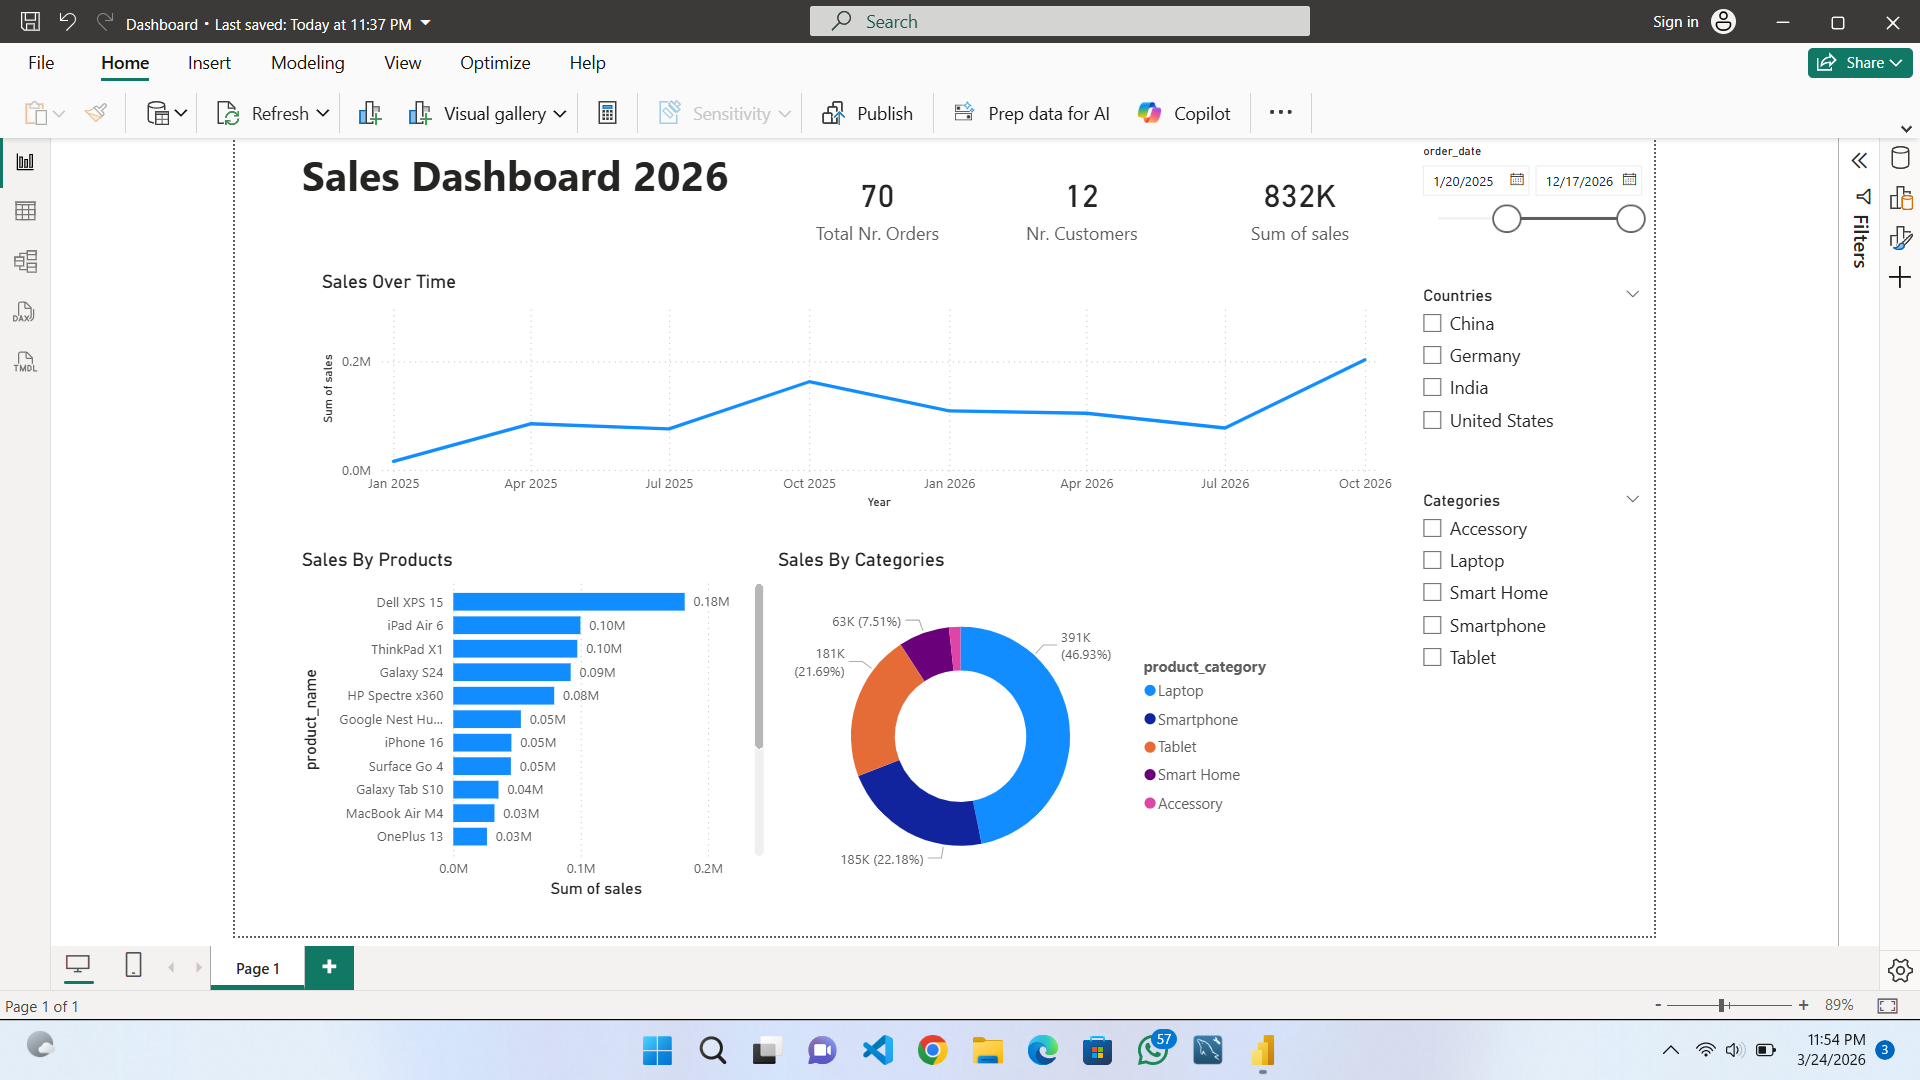

What the dashboard file says about the page in this screenshot:
{"tool":"powerbi","page":{"name":"Page 1","canvas":[1280,720],"ordinal":0},"visuals":[{"type":"barChart","title":"Sales By Products","fields":{"Category":["orders.product_name"],"Y":["Sum(orders.sales)"]},"box":[55.6,369.8,426.7,320.6],"z":0},{"type":"donutChart","title":"Sales By Categories","fields":{"Category":["orders.product_category"],"Y":["Sum(orders.sales)"]},"box":[484.8,369.8,465.5,320.6],"z":1000},{"type":"card","fields":{"Values":["CountNonNull(orders.order_id)"]},"box":[504.2,0,151.3,122.8],"z":2000},{"type":"card","fields":{"Values":["Count(orders.customer_id)"]},"box":[680.1,0,168.1,122.8],"z":3000},{"type":"card","fields":{"Values":["Sum(orders.sales)"]},"box":[862.4,0,196.5,122.8],"z":4000},{"type":"lineChart","title":"Sales Over Time","fields":{"Category":["orders.order_date.Variation.Date Hierarchy.Year","orders.order_date.Variation.Date Hierarchy.Quarter","orders.order_date.Variation.Date Hierarchy.Month","orders.order_date.Variation.Date Hierarchy.Day"],"Y":["Sum(orders.sales)"]},"box":[73.7,118.9,974.9,219.8],"z":5000},{"type":"slicer","fields":{"Values":["customers.country"]},"box":[1058.9,128,221.1,153.9],"z":6000},{"type":"slicer","fields":{"Values":["orders.product_category"]},"box":[1058.9,312.9,221.1,196.5],"z":7000},{"type":"slicer","fields":{"Values":["orders.order_date"]},"box":[1058.9,0,221.1,128],"z":8000},{"type":"textbox","box":[55.6,3.9,426.7,75],"z":9000}]}

Visuals, with their boxes on the page's 1280x720 design canvas (x1, y1, x2, y2). These are canvas units, not pixel positions in the 1920x1080 screenshot, which may show the page scaled, cropped or inside an application window:
"Sales By Products" barChart: bbox=(56, 370, 482, 690)
"Sales By Categories" donutChart: bbox=(485, 370, 950, 690)
card - CountNonNull(orders.order_id): bbox=(504, 0, 656, 123)
card - Count(orders.customer_id): bbox=(680, 0, 848, 123)
card - Sum(orders.sales): bbox=(862, 0, 1059, 123)
"Sales Over Time" lineChart: bbox=(74, 119, 1049, 339)
slicer - customers.country: bbox=(1059, 128, 1280, 282)
slicer - orders.product_category: bbox=(1059, 313, 1280, 509)
slicer - orders.order_date: bbox=(1059, 0, 1280, 128)
textbox: bbox=(56, 4, 482, 79)
